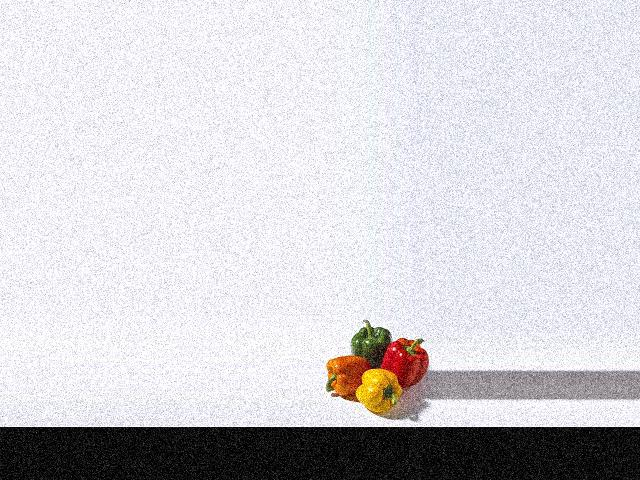bell_pepper: (381, 333, 430, 388)
